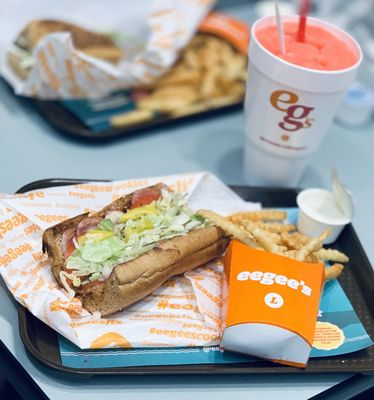pizza: (241, 9, 363, 188), (296, 188, 352, 247)
soup: (42, 182, 226, 318)
